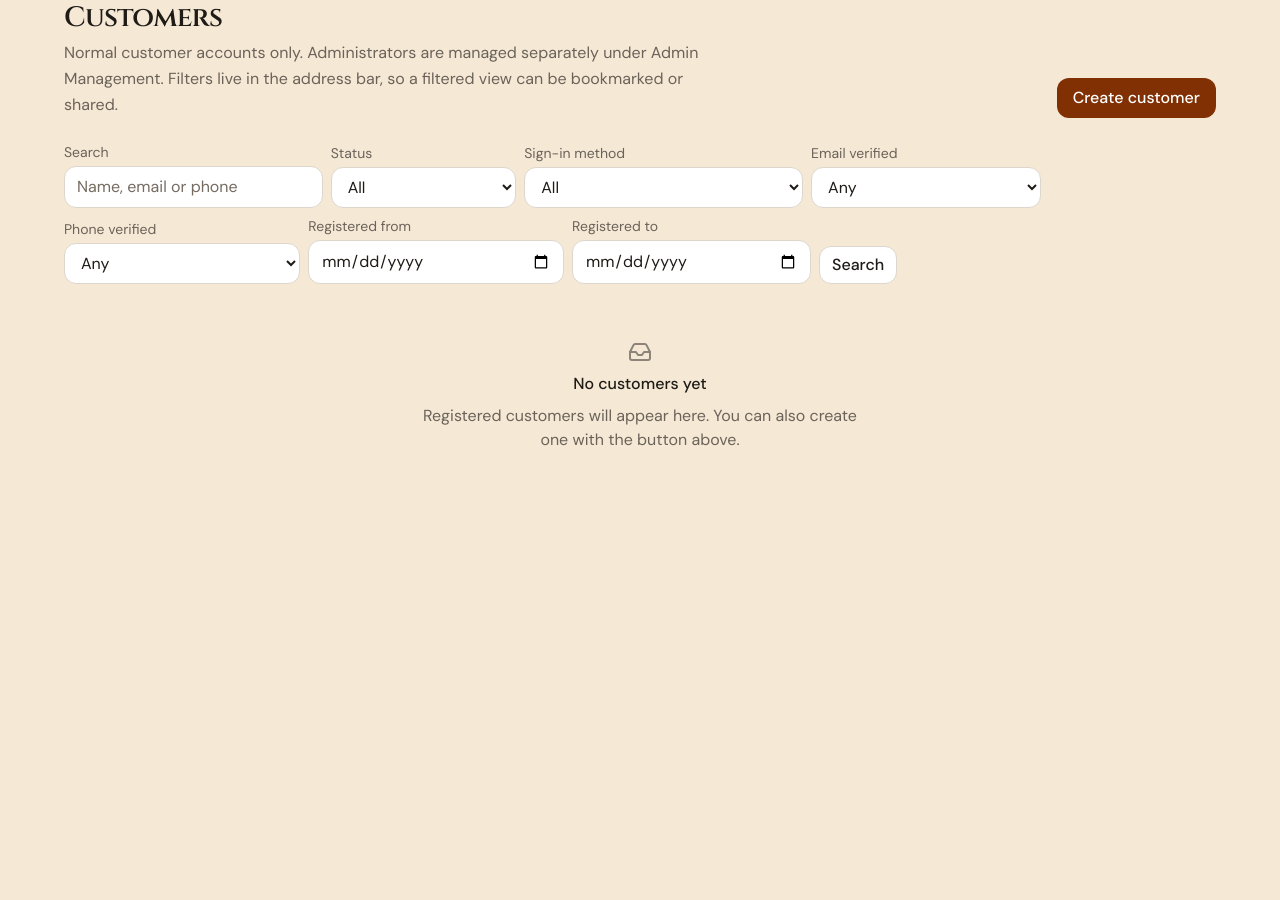
Test: Customers page: create customer › never sends a role, and says the customer verifies their email
This screenshot has width=1280, height=900.
Expected: the text "No customers yet" is shown, [573,372,707,396]
Click the button "Create customer". click: {"x": 1136, "y": 98}
box: [1057,78,1216,118]
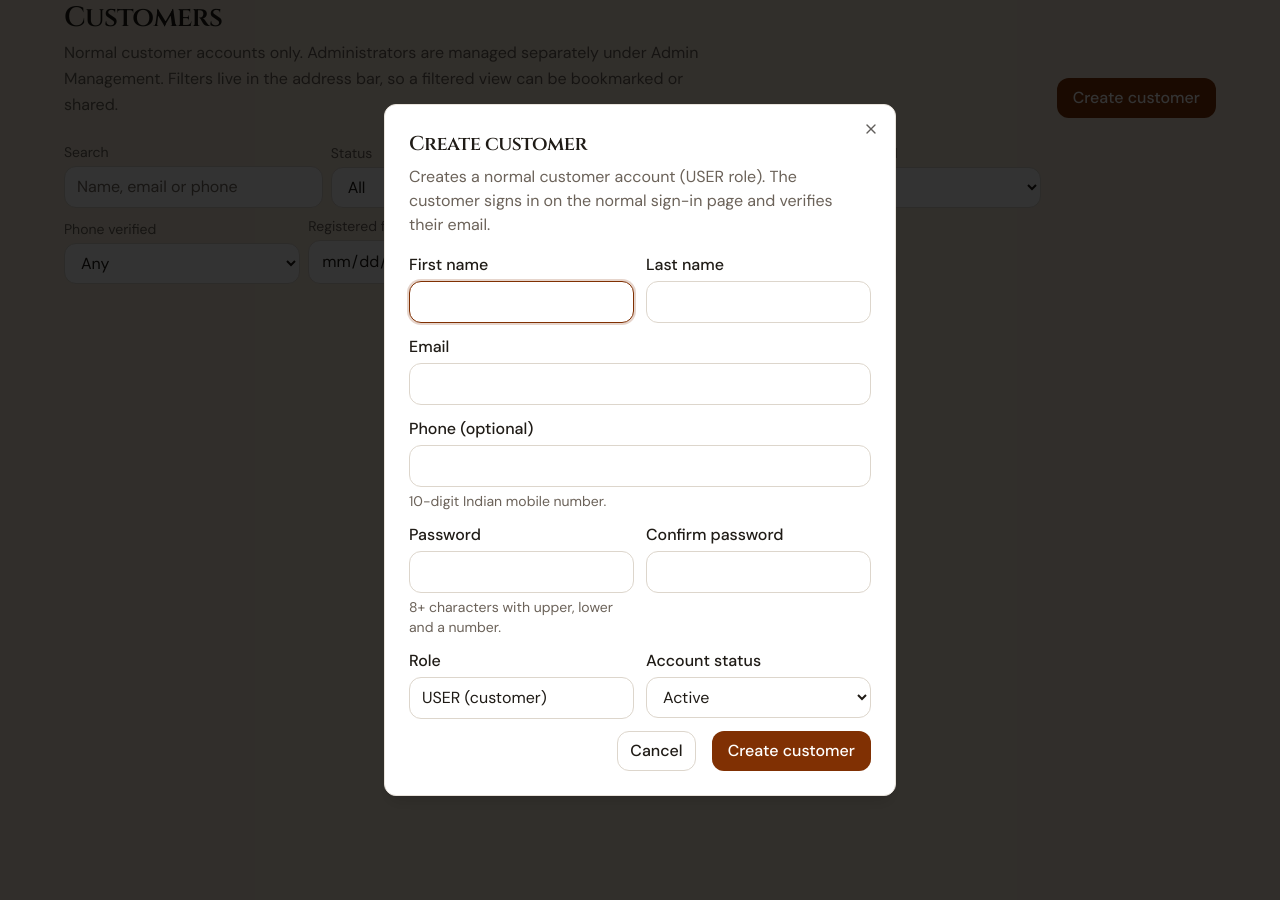
Expected: the field showing "USER (customer)" is disabled, [409,677,634,719]
Type "Cu" into the field labelled "First name". click: {"x": 522, "y": 302}
box: [409,281,634,323]
Type "Stomer" into the field labelled "Last name". click: {"x": 758, "y": 302}
box: [646,281,871,323]
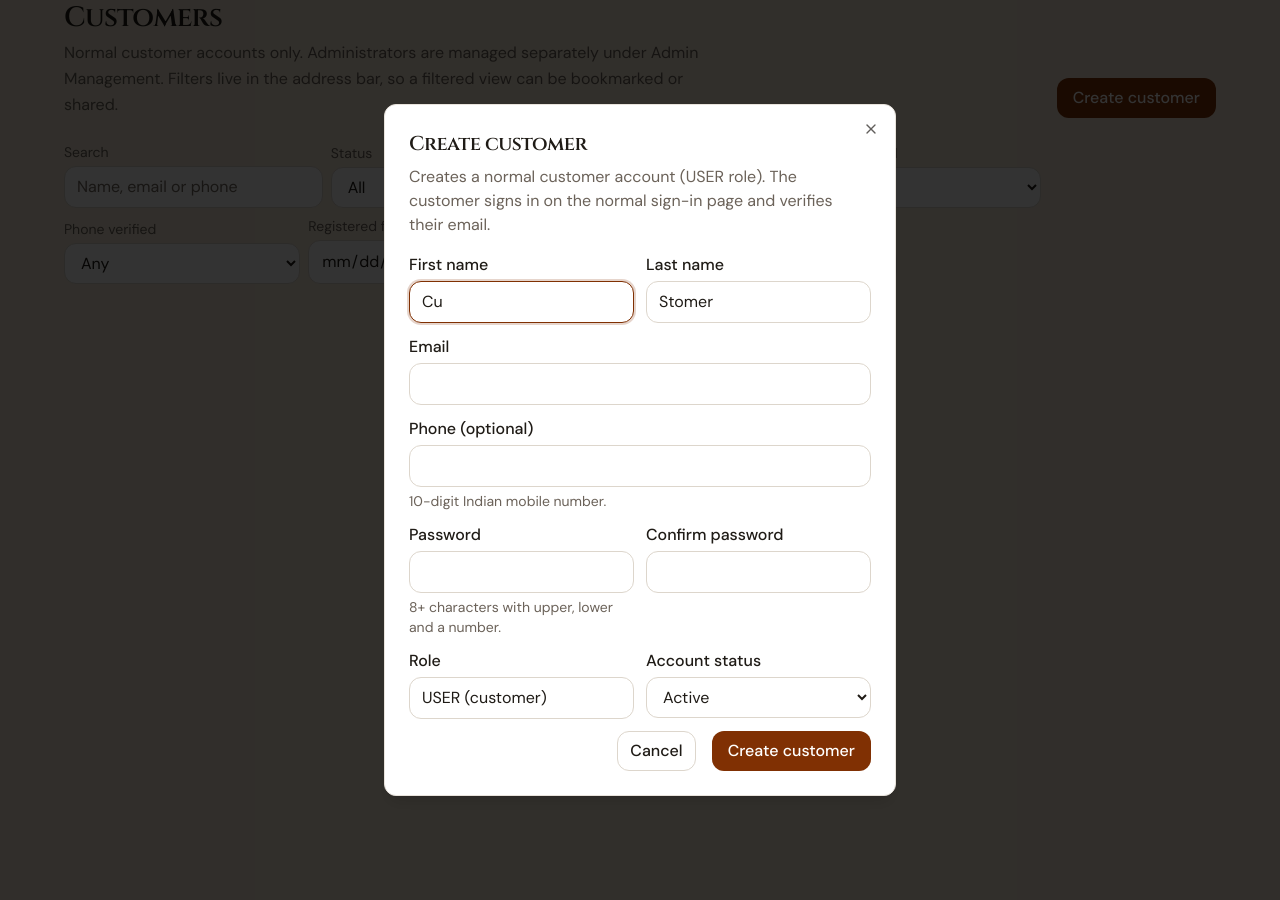
Type "c@x.com" into the field labelled "Email". click: {"x": 640, "y": 384}
box: [409,363,871,405]
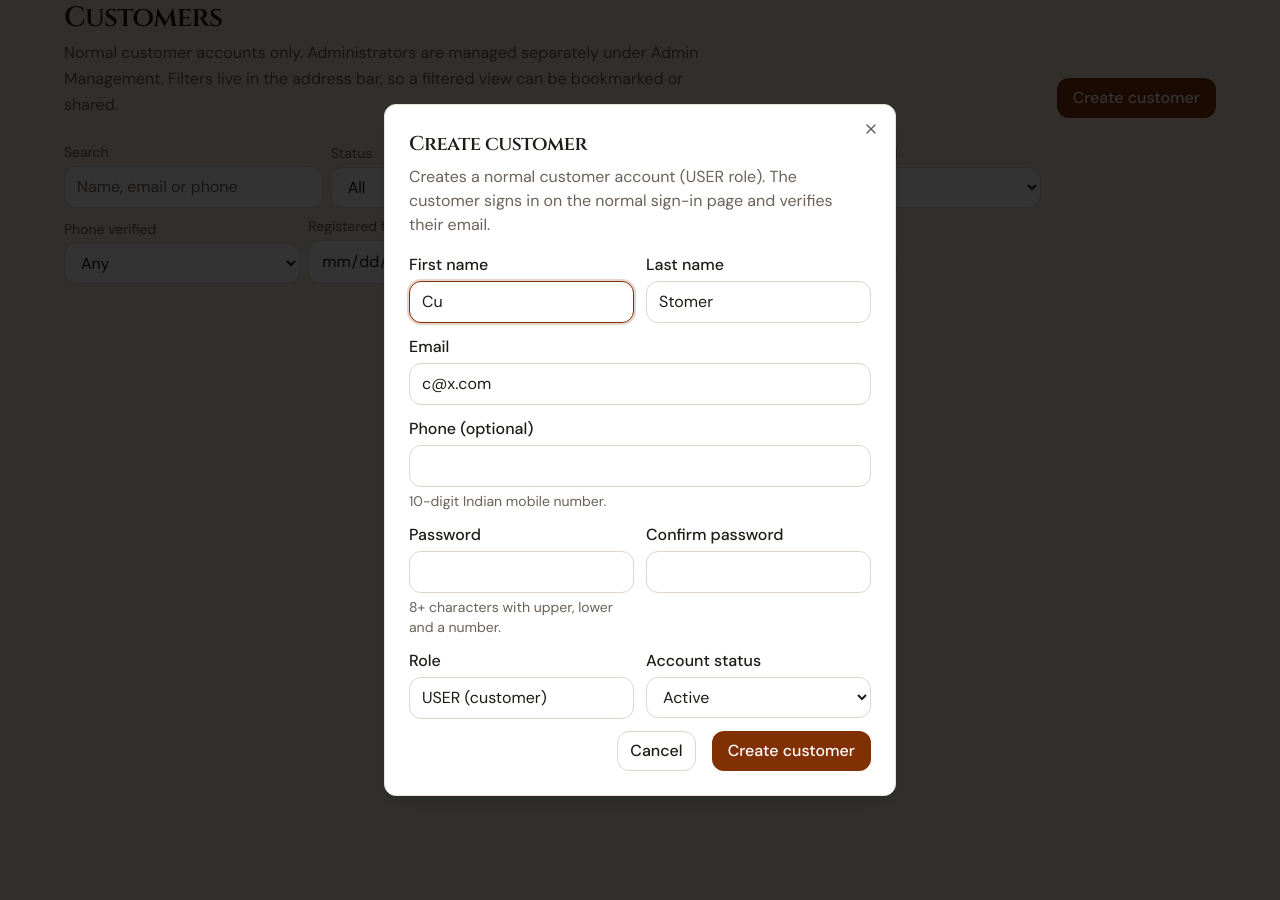
Type "Strong#Pass1" into the password field labelled "Password". click: {"x": 522, "y": 572}
box: [409,551,634,593]
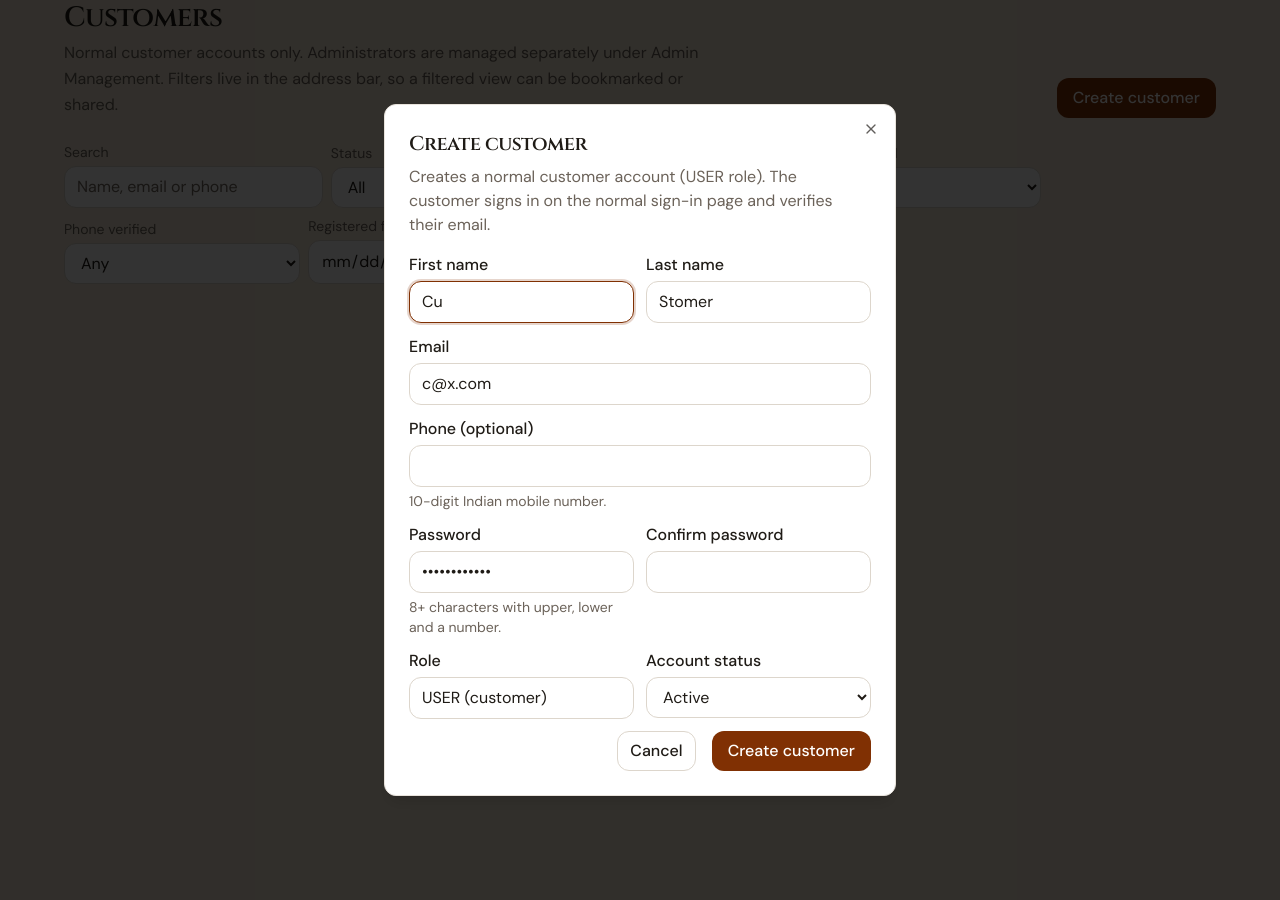
Type "Strong#Pass1" into the password field labelled "Confirm password". click: {"x": 758, "y": 572}
box: [646,551,871,593]
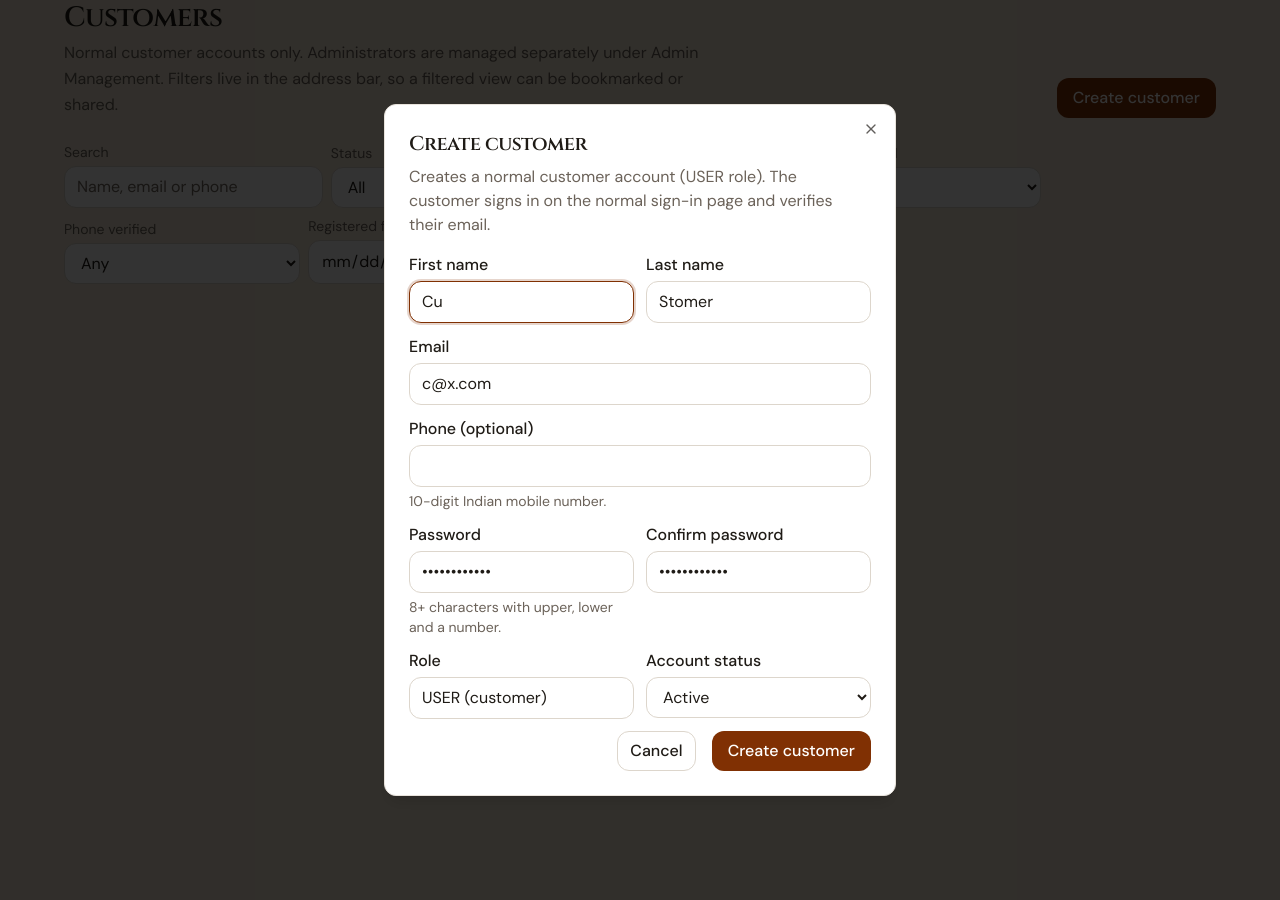
Click the button "Create customer". click: {"x": 791, "y": 751}
box: [712,731,871,771]
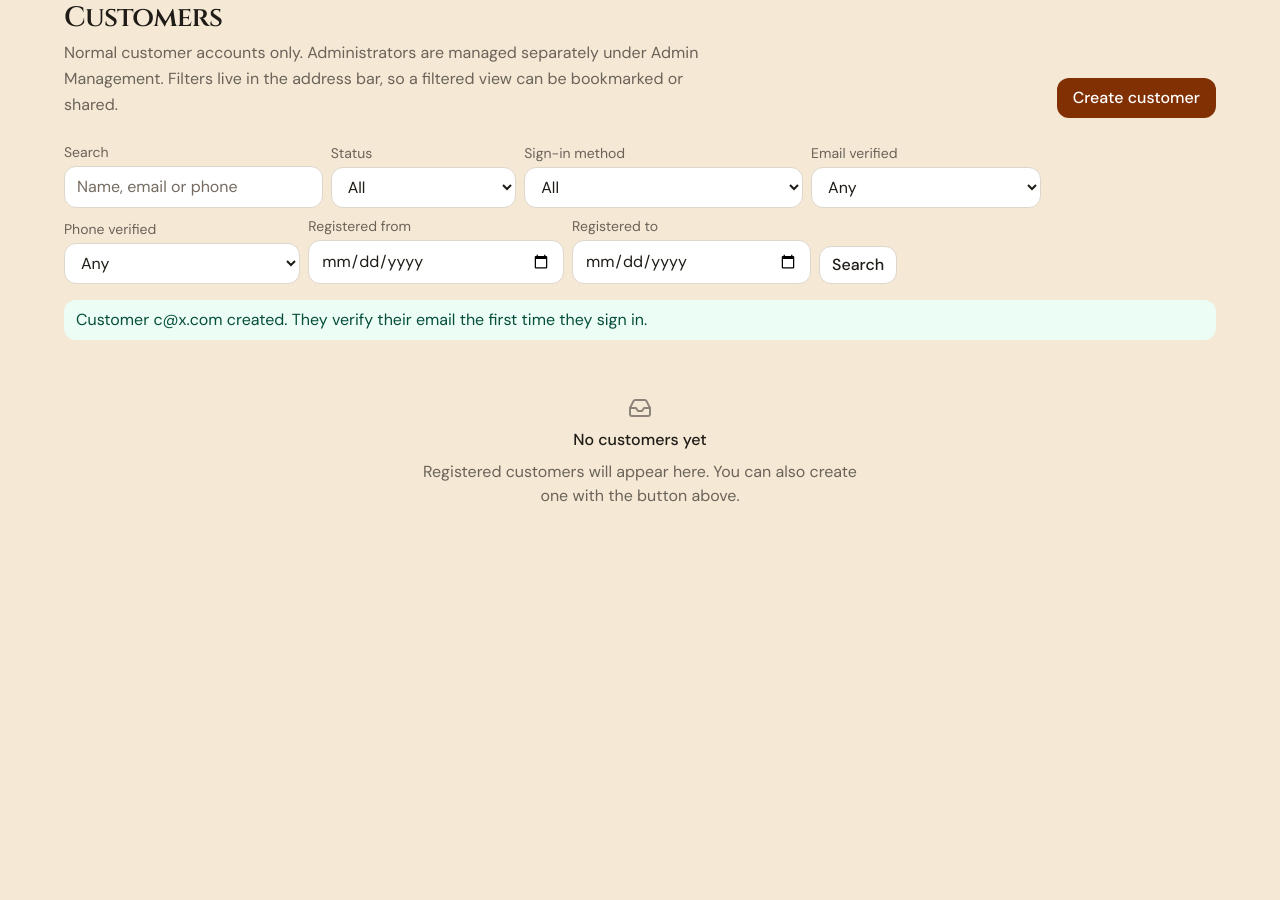
Expected: the message shows "verify their email", [76,309,647,330]
